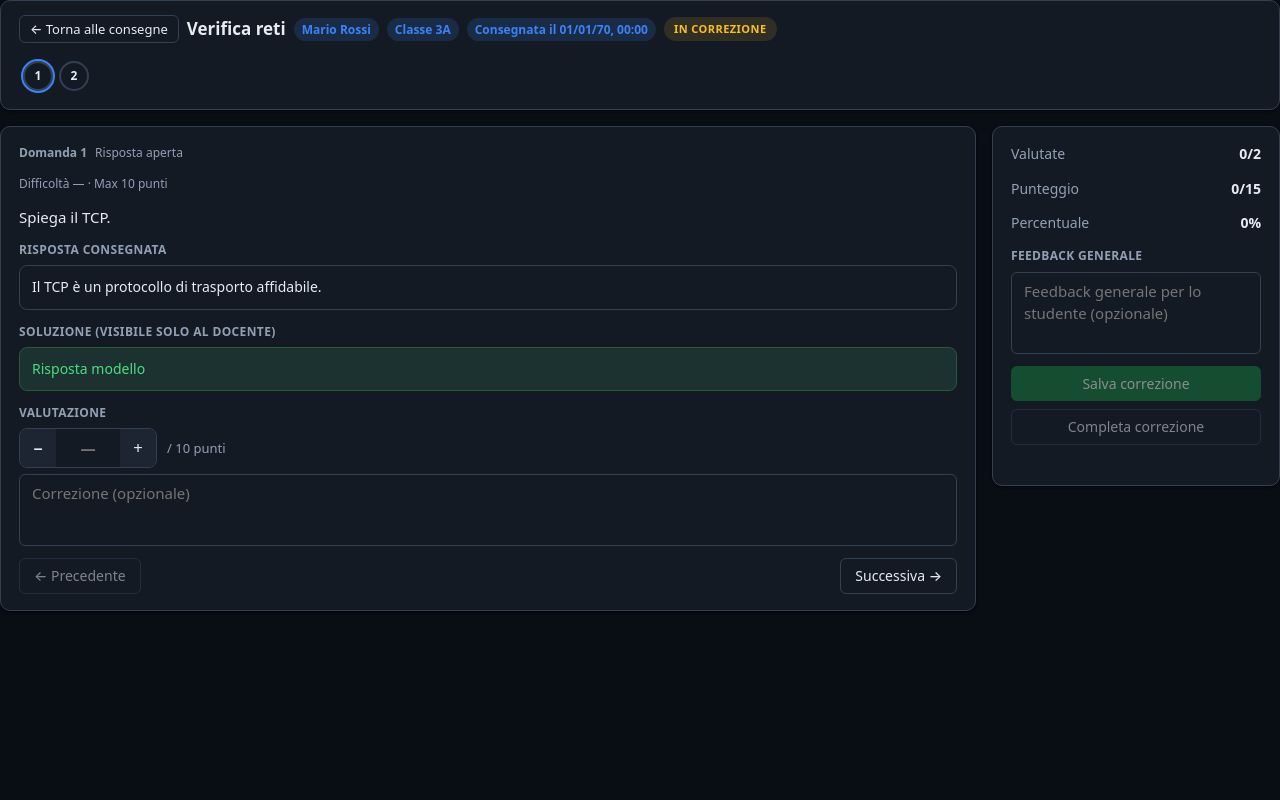
Scenario: CorrectionWorkspace — scoring input › updates the summary panel live as scores are edited, before saving
Expected: the text "Spiega il TCP." is shown, [19,207,111,227]
Expected: the text "0/15" is shown, [1231,178,1261,200]
Type "8" into the field named "Punteggio per la domanda 1" at (88, 448), box [56,429,120,467]
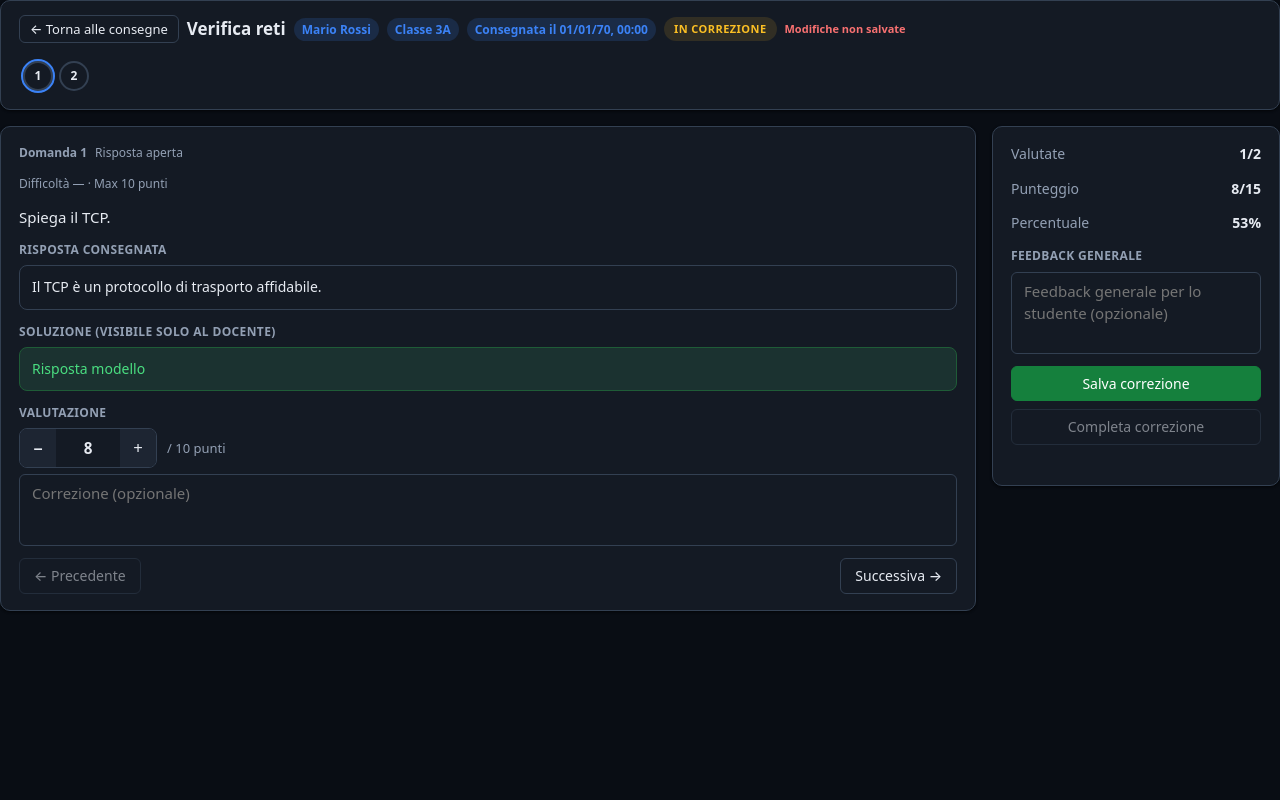
Click the button "Successiva →" at (899, 576), box [840,558,957,594]
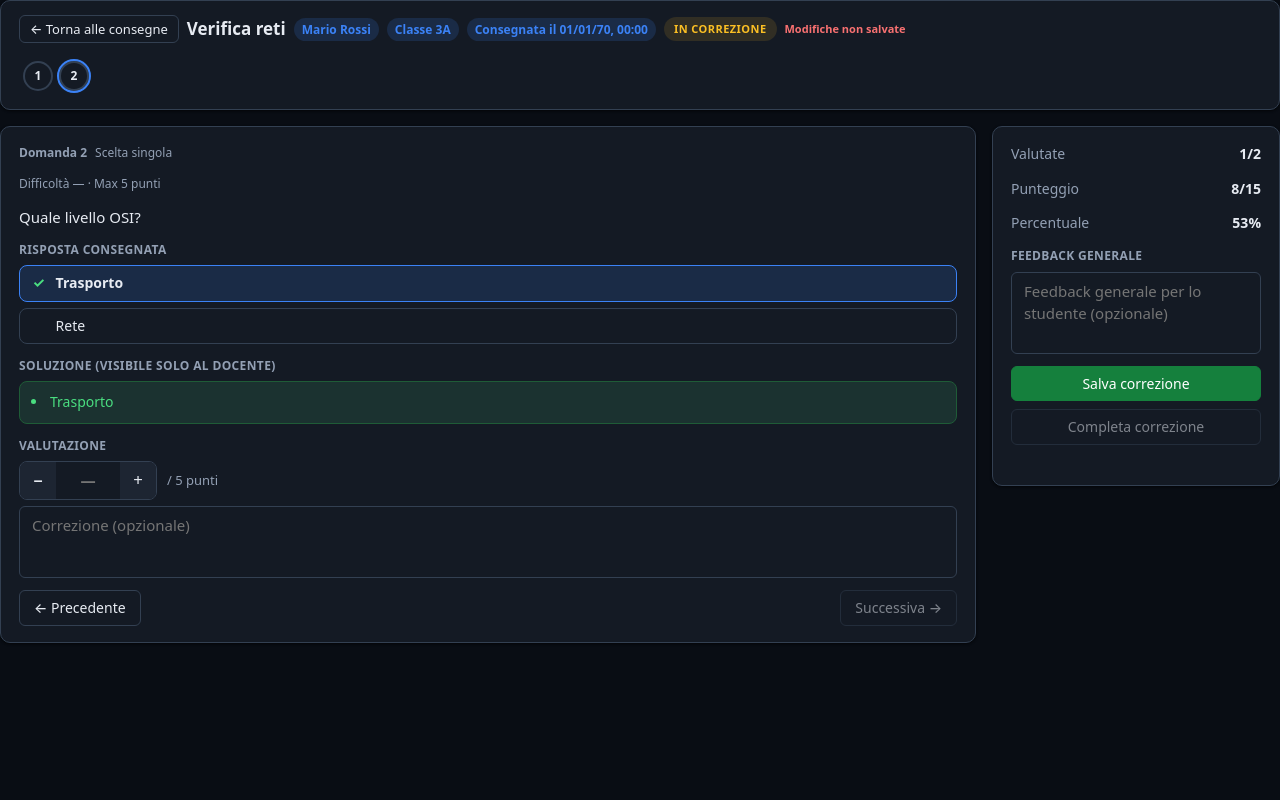
Type "5" into the field named "Punteggio per la domanda 2" at (88, 480), box [56,462,120,499]
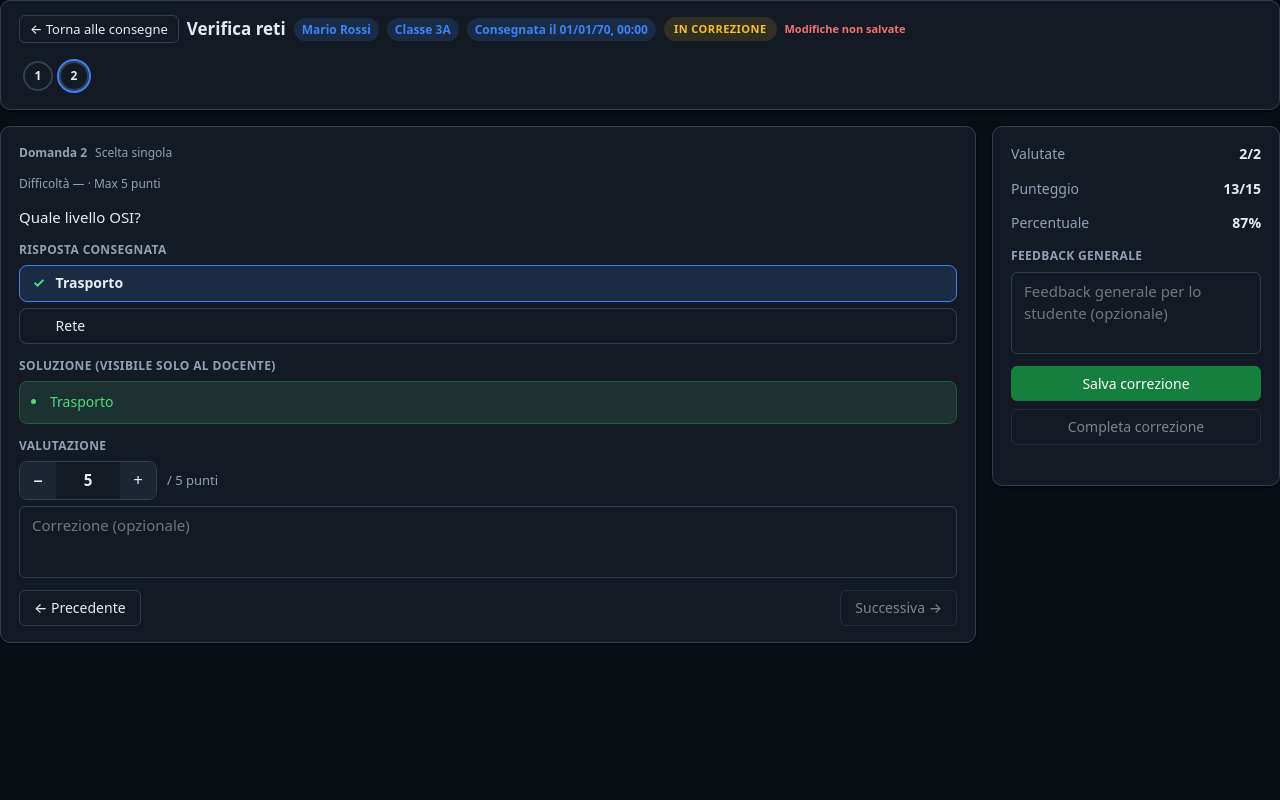
Now the text "13/15" is shown, box [1223,178,1261,200]
Now the text "87%" is shown, box [1232,212,1261,234]
